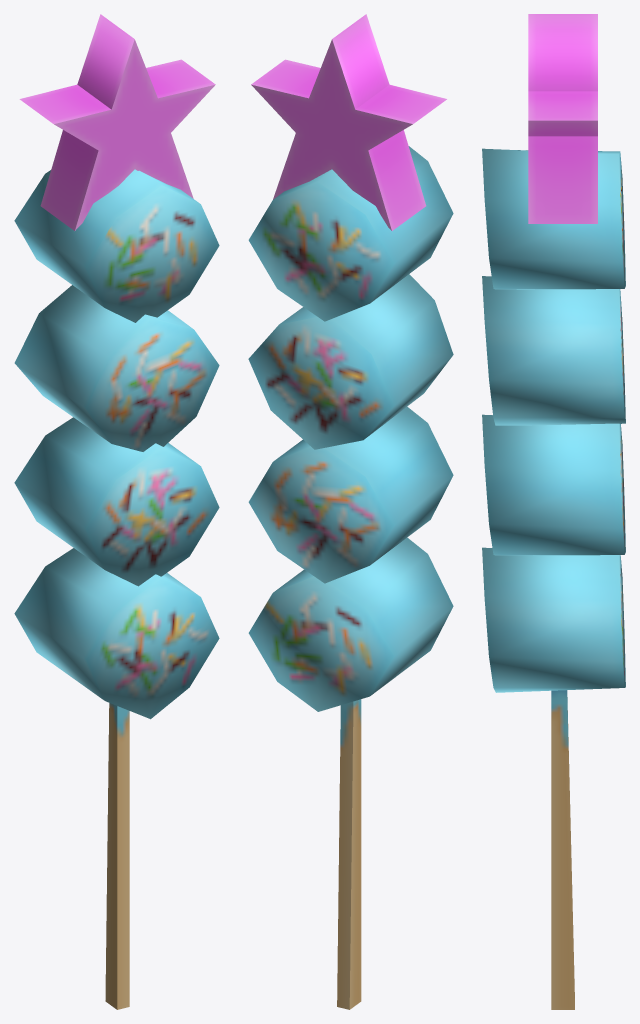
The model's file is jsf_ChocolateBanana_b04_c03.fbx.
The picture shows the model from 3 angles, left to right: view 1: azimuth 30°, elevation 25°; view 2: azimuth 150°, elevation 25°; view 3: azimuth 270°, elevation 25°; orthographic projection.
Visible parts, largest first — view 1: jsf_ChocolateBanana_b04_c03; view 2: jsf_ChocolateBanana_b04_c03; view 3: jsf_ChocolateBanana_b04_c03.
Part boxes in pixels (x1,y1,x2,y2): jsf_ChocolateBanana_b04_c03: (14,14,219,1009); jsf_ChocolateBanana_b04_c03: (248,14,453,1009); jsf_ChocolateBanana_b04_c03: (482,14,625,1009).
Bounding box in the file's own units: 4.51 × 25.95 × 3.41.
